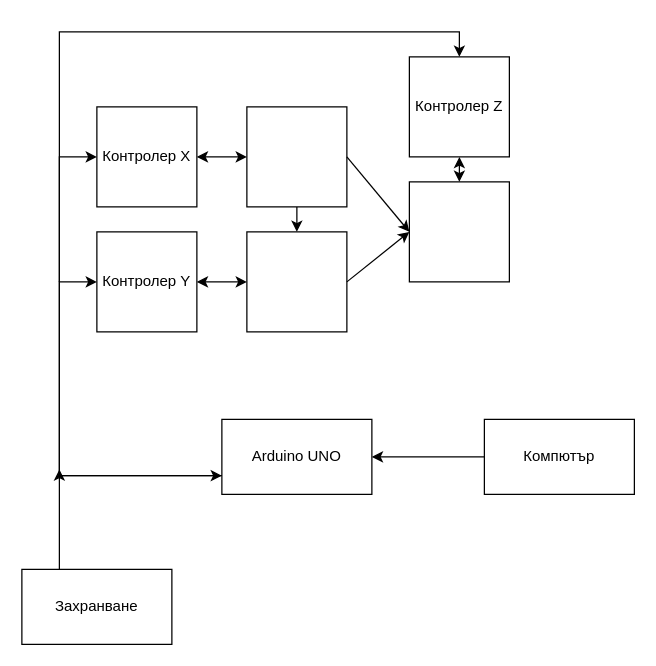
Image size: 656x666. Some labels were removed from this diagram. Here are the shapes that lost their labels. From the top down, the box of each, then its label:
(246, 106, 347, 207): Стъпков мотор Х
(408, 181, 509, 282): Стъпков мотор Z
(246, 231, 347, 332): Стъпков мотор Y
